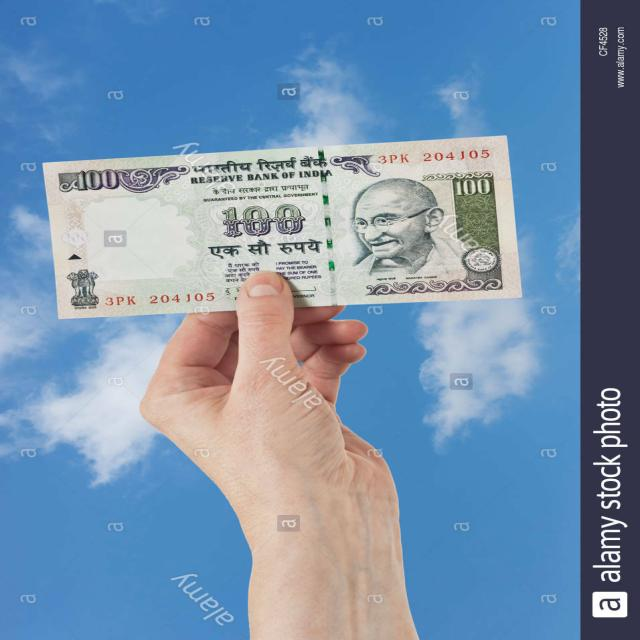100IndianRupees: (45, 138, 517, 318)
